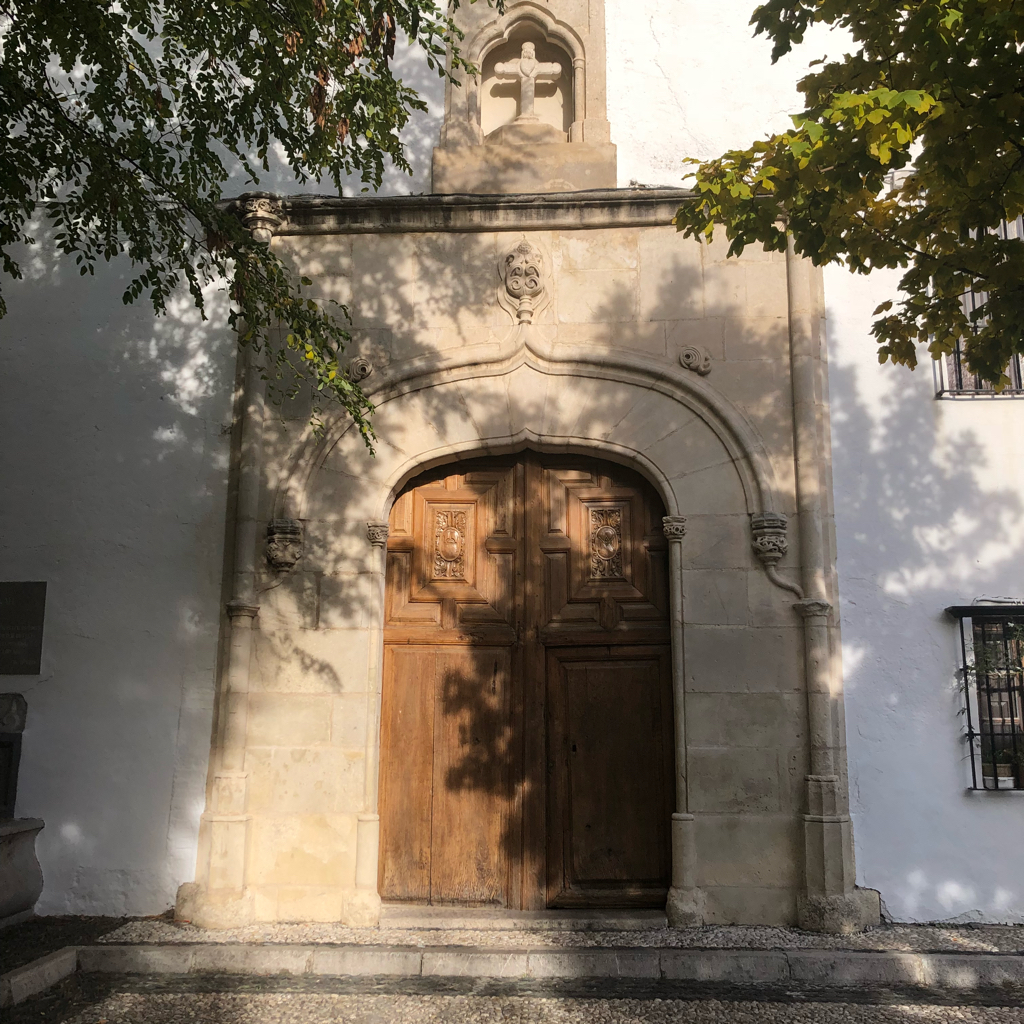arco-conopial: (321, 329, 734, 420), (380, 421, 674, 492)
